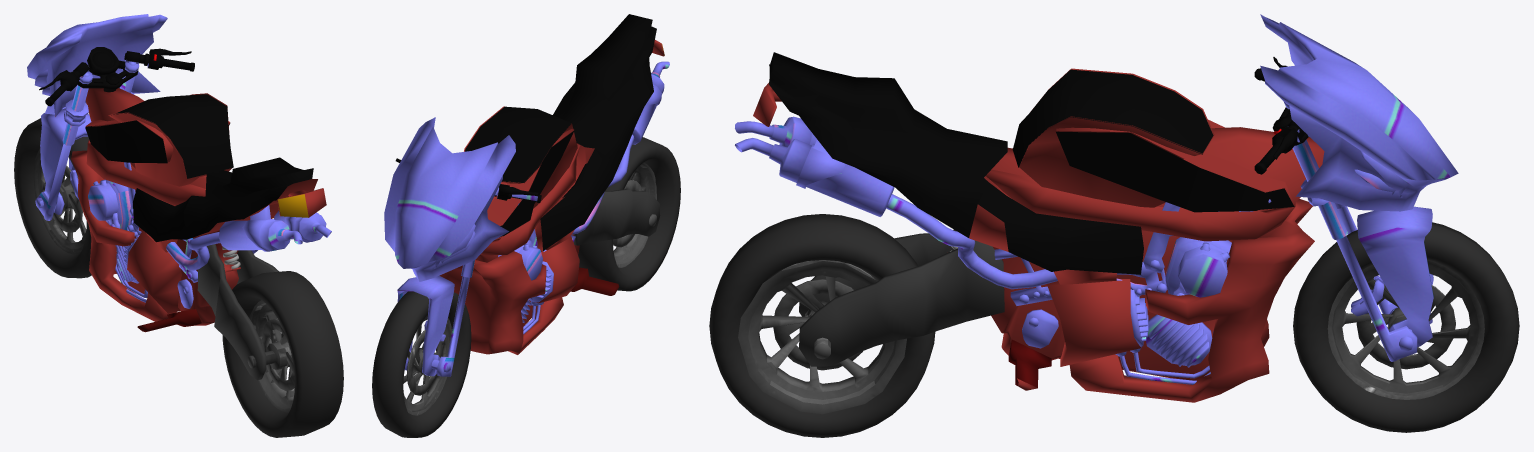
Rendered from motorcycle.glb.
3 views of the same model, side by side, from view 1: azimuth 30°, elevation 25°; view 2: azimuth 150°, elevation 25°; view 3: azimuth 270°, elevation 25° (orthographic). The views are drawn at different scales.
Parts seen in each view (by area): view 1: carcasse, pneu_arr, guidon, carcasse.001, carcasse.003, echappement, chain, pneu, motor, enjoliveur_ar, carcasse.004, guidon.004 (+7 smaller); view 2: guidon, carcasse, carcasse.003, pneu, pneu_arr, carcasse.001, carcasse.006, chain, guidon.004, enjoliveur, enjoliveur_ar, echappement (+4 smaller); view 3: carcasse, guidon, carcasse.003, pneu_arr, pneu, chain, enjoliveur_ar, motor, enjoliveur, echappement, guidon.004, carcasse.004 (+4 smaller).
Boxes of the visible parts, x1=… form: carcasse: x1=71, y1=88, x2=326, y2=325; pneu_arr: x1=222, y1=271, x2=343, y2=437; guidon: x1=27, y1=14, x2=167, y2=220; carcasse.001: x1=111, y1=94, x2=233, y2=178; carcasse.003: x1=183, y1=157, x2=313, y2=239; echappement: x1=166, y1=205, x2=331, y2=270; chain: x1=197, y1=234, x2=278, y2=380; pneu: x1=14, y1=118, x2=91, y2=278; motor: x1=88, y1=162, x2=197, y2=308; enjoliveur_ar: x1=247, y1=300, x2=294, y2=412; carcasse.004: x1=85, y1=120, x2=230, y2=163; guidon.004: x1=35, y1=108, x2=91, y2=220; guidon: x1=384, y1=117, x2=537, y2=375; carcasse: x1=439, y1=40, x2=664, y2=354; carcasse.003: x1=553, y1=14, x2=656, y2=179; pneu: x1=372, y1=291, x2=471, y2=437; pneu_arr: x1=578, y1=137, x2=680, y2=291; carcasse.001: x1=465, y1=106, x2=577, y2=182; carcasse.006: x1=540, y1=149, x2=612, y2=250; chain: x1=573, y1=189, x2=660, y2=245; guidon.004: x1=397, y1=275, x2=467, y2=376; enjoliveur: x1=403, y1=315, x2=451, y2=415; enjoliveur_ar: x1=613, y1=162, x2=656, y2=267; echappement: x1=572, y1=61, x2=669, y2=234; carcasse: x1=753, y1=68, x2=1324, y2=402; guidon: x1=1260, y1=14, x2=1458, y2=331; carcasse.003: x1=769, y1=52, x2=1007, y2=237; pneu_arr: x1=709, y1=214, x2=935, y2=437; pneu: x1=1293, y1=222, x2=1519, y2=432; chain: x1=799, y1=229, x2=1004, y2=366; enjoliveur_ar: x1=738, y1=260, x2=906, y2=414; motor: x1=994, y1=199, x2=1271, y2=384; enjoliveur: x1=1327, y1=260, x2=1484, y2=399; echappement: x1=735, y1=116, x2=1057, y2=289; guidon.004: x1=1301, y1=187, x2=1433, y2=361; carcasse.004: x1=1056, y1=131, x2=1294, y2=212.
Size of the model in its own units: 6.01 by 10.86 by 20.51.
Materials: 22 (5 with a texture image).
